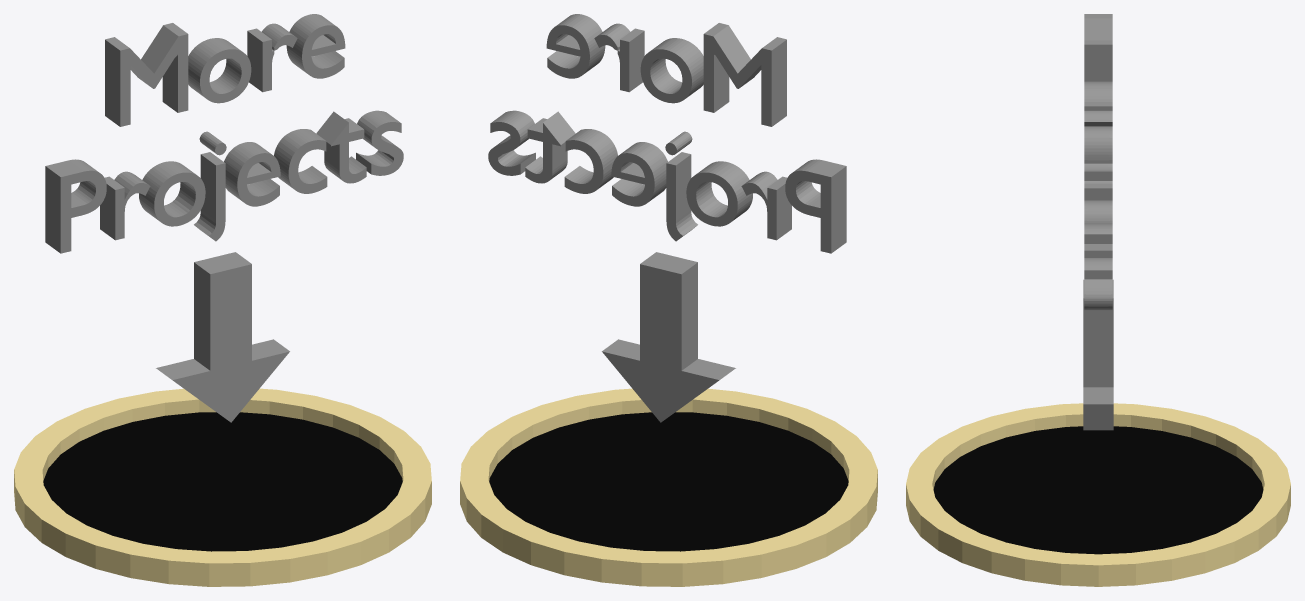
File: more.glb
3 views of the same model, side by side, from view 1: azimuth 30°, elevation 25°; view 2: azimuth 150°, elevation 25°; view 3: azimuth 270°, elevation 25° (orthographic). The views are drawn at different scales.
Visible parts, largest first — view 1: Circle; view 2: Circle; view 3: Circle.
Part boxes in pixels (<box>): Circle: <box>14,14,431,586</box>; Circle: <box>460,14,877,586</box>; Circle: <box>906,14,1290,586</box>.
Bounding box in the file's own units: 2.31 × 2.93 × 2.31.
1 material, 1 textured.
